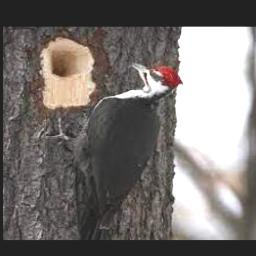Woodpecker: (46, 62, 183, 239)
